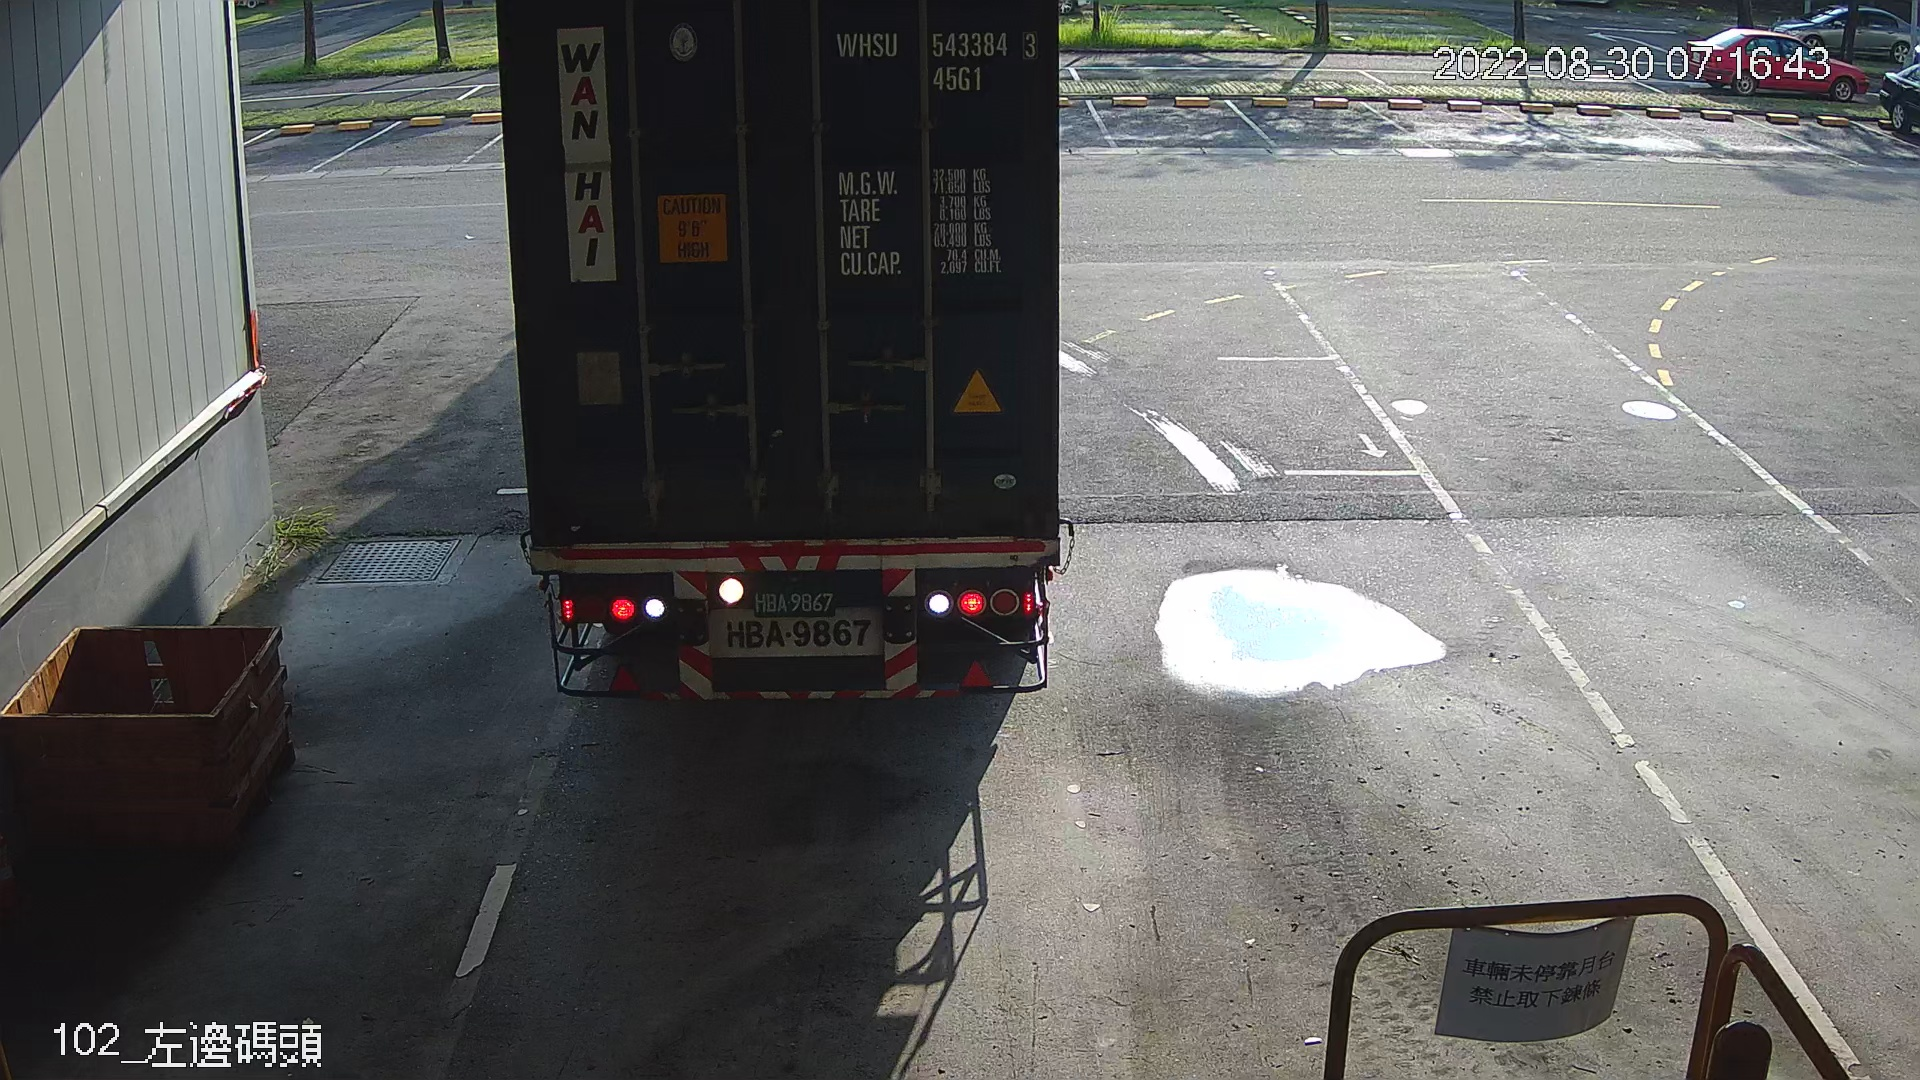container: (825, 18, 1048, 102)
